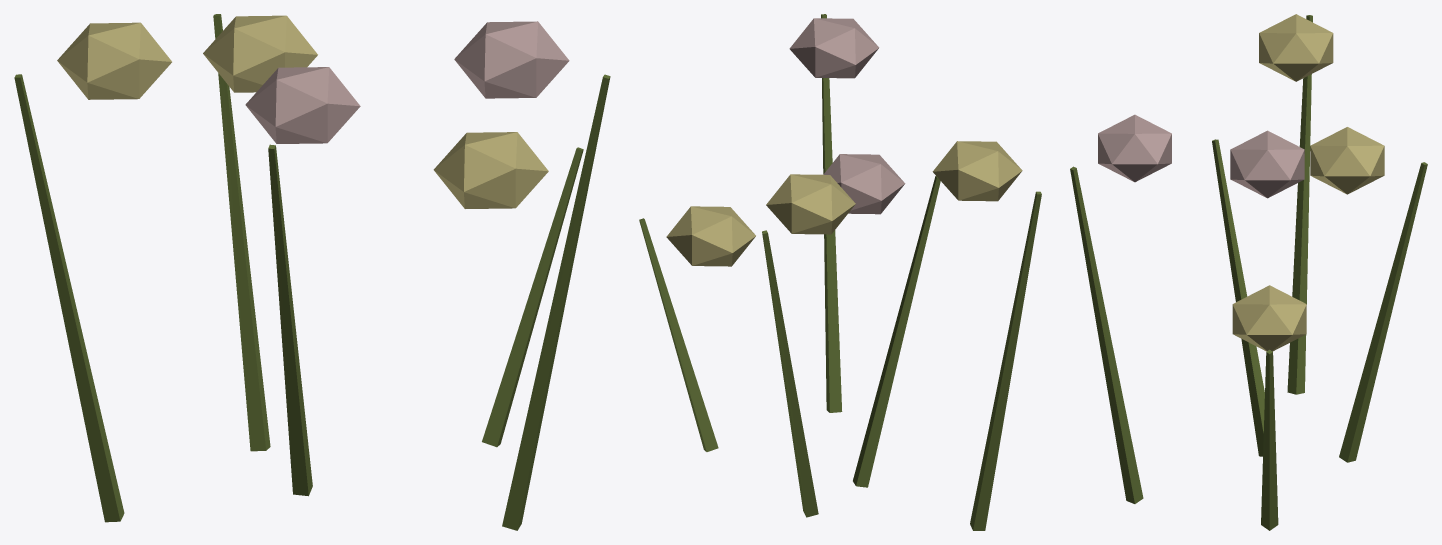
Rendered from wildflowers-far.glb.
3 views of the same model, side by side, from view 1: azimuth 30°, elevation 25°; view 2: azimuth 150°, elevation 25°; view 3: azimuth 270°, elevation 25° (orthographic). The views are drawn at different scales.
Visible parts, largest first — view 1: world-scenery/wildflowers-far; view 2: world-scenery/wildflowers-far; view 3: world-scenery/wildflowers-far.
Part boxes in pixels (x1,y1,x2,y2): world-scenery/wildflowers-far: (14,14,610,530); world-scenery/wildflowers-far: (639,14,1041,530); world-scenery/wildflowers-far: (1070,14,1427,530).
Size of the model in its own units: 0.9768 by 0.8608 by 0.7386.
